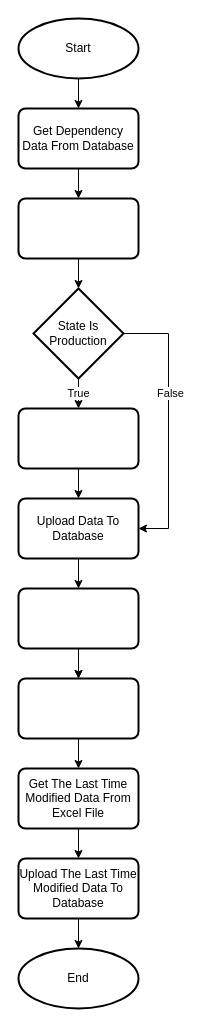
Some shapes in this 200 by 1026 pixel diagram are drawn without their labels. The shapes that lost their labels are listed below. From the top down, each one's centre as x and y in pixels, then its label:
the point at 78,228: Get Data From Excel File
the point at 78,438: Write Data To Local JSON File
the point at 78,618: Create Summary Excel FIles
the point at 78,708: Convert Summary Excel Files To PDF
